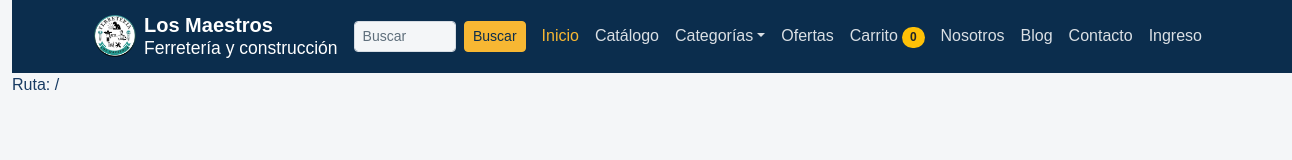
Test: Header: búsqueda, categorías y ofertas › buscar lleva al catálogo con el texto en la URL
Type "taladro" into the search field named "Buscar productos" at (405, 36), box x1=354 y1=21 x2=456 y2=52
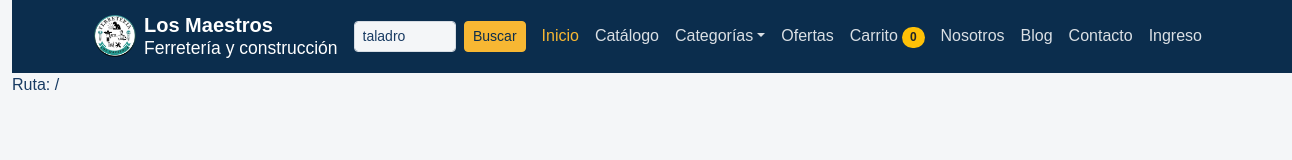
Click the button "Buscar" at (495, 36), box x1=464 y1=21 x2=526 y2=52
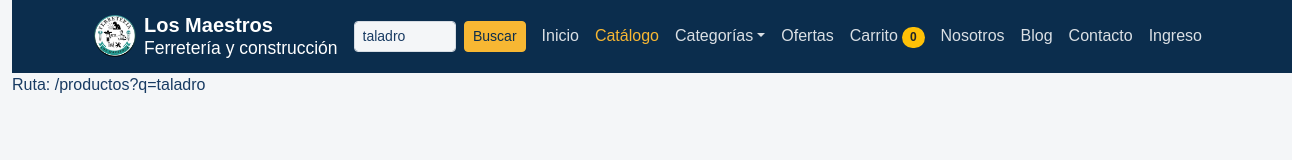
Check: the text "Ruta: /productos?q=taladro" is shown, box x1=12 y1=76 x2=206 y2=93
